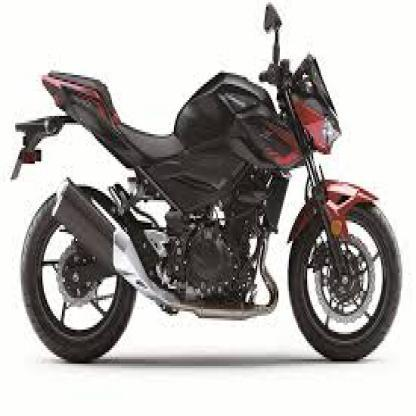Motorcycle: (11, 3, 403, 366)
